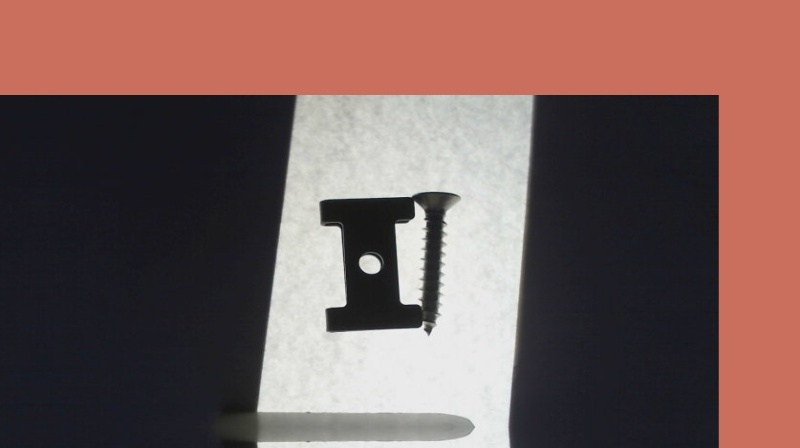O002: (317, 196, 420, 333)
S001: (409, 190, 461, 337)
